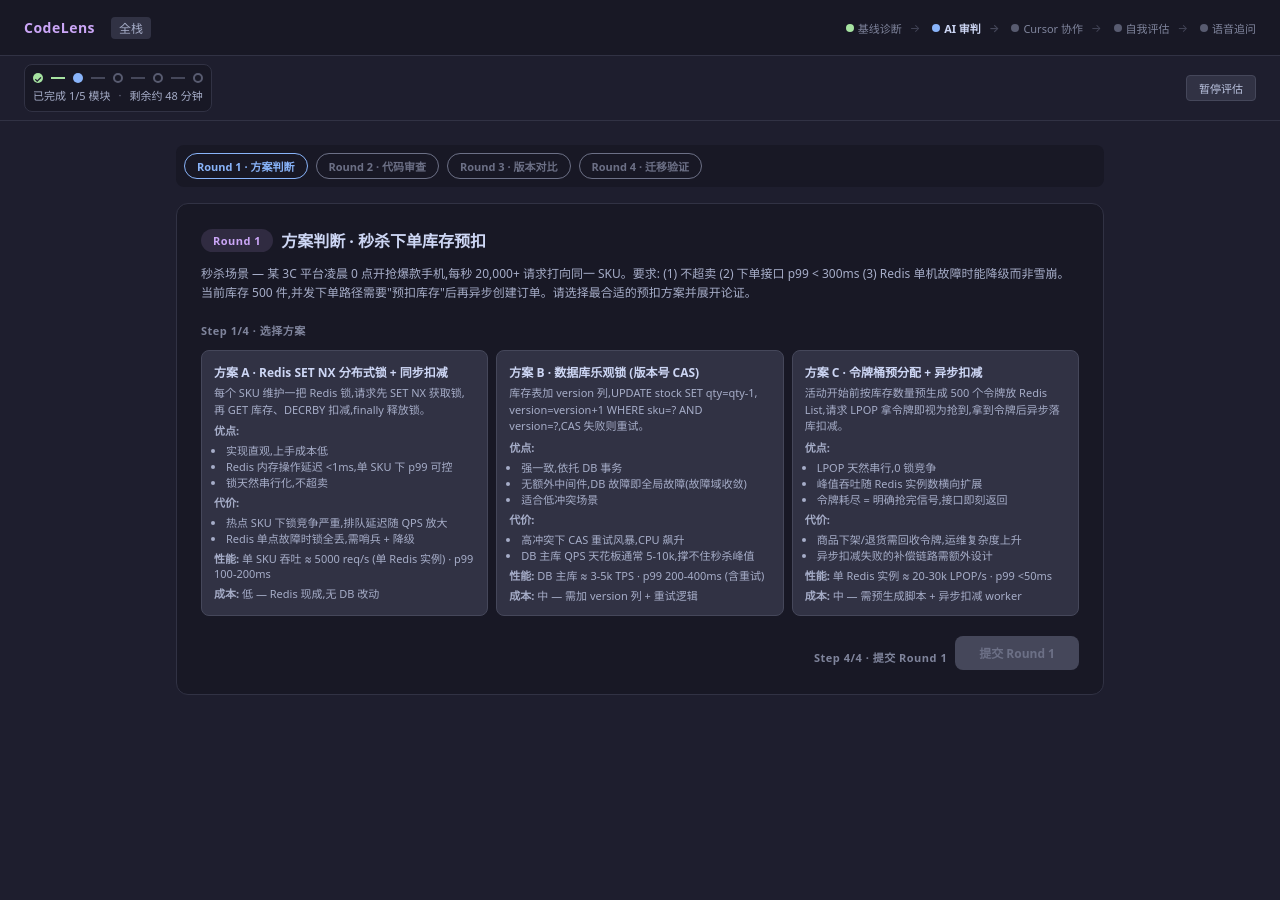
Test: <ModuleAPage /> › canonical data-testids › reveals structured form after scheme + reasoning, then challenge
Click the button with test id "ma-r1-scheme-c" at (935, 483), box [792, 350, 1079, 616]
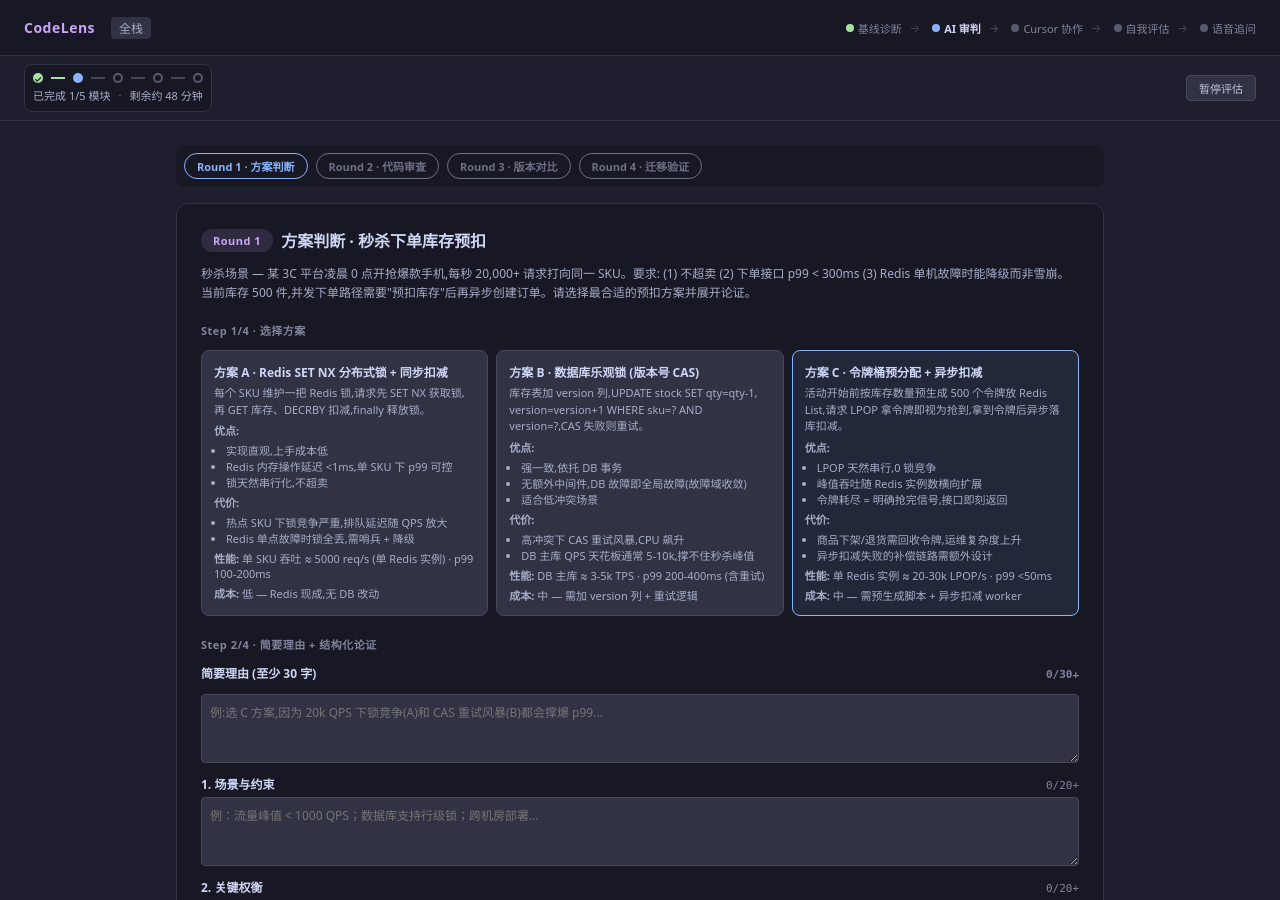
Expected: the text box with test id "ma-r1-reasoning" is shown
Expected: the text box with test id "ma-r1-structured-scenario" is shown, [201, 797, 1079, 866]
Type "选 C 方案 — 20k QPS 下锁竞争(A)和 CAS 重试风暴(B)都顶不住,令牌桶把串行化从 lock 转到 LPOP 上,天然扩展。" into the text box with test id "ma-r1-reasoning" at (640, 728), box [201, 694, 1079, 763]
(page scrolled)
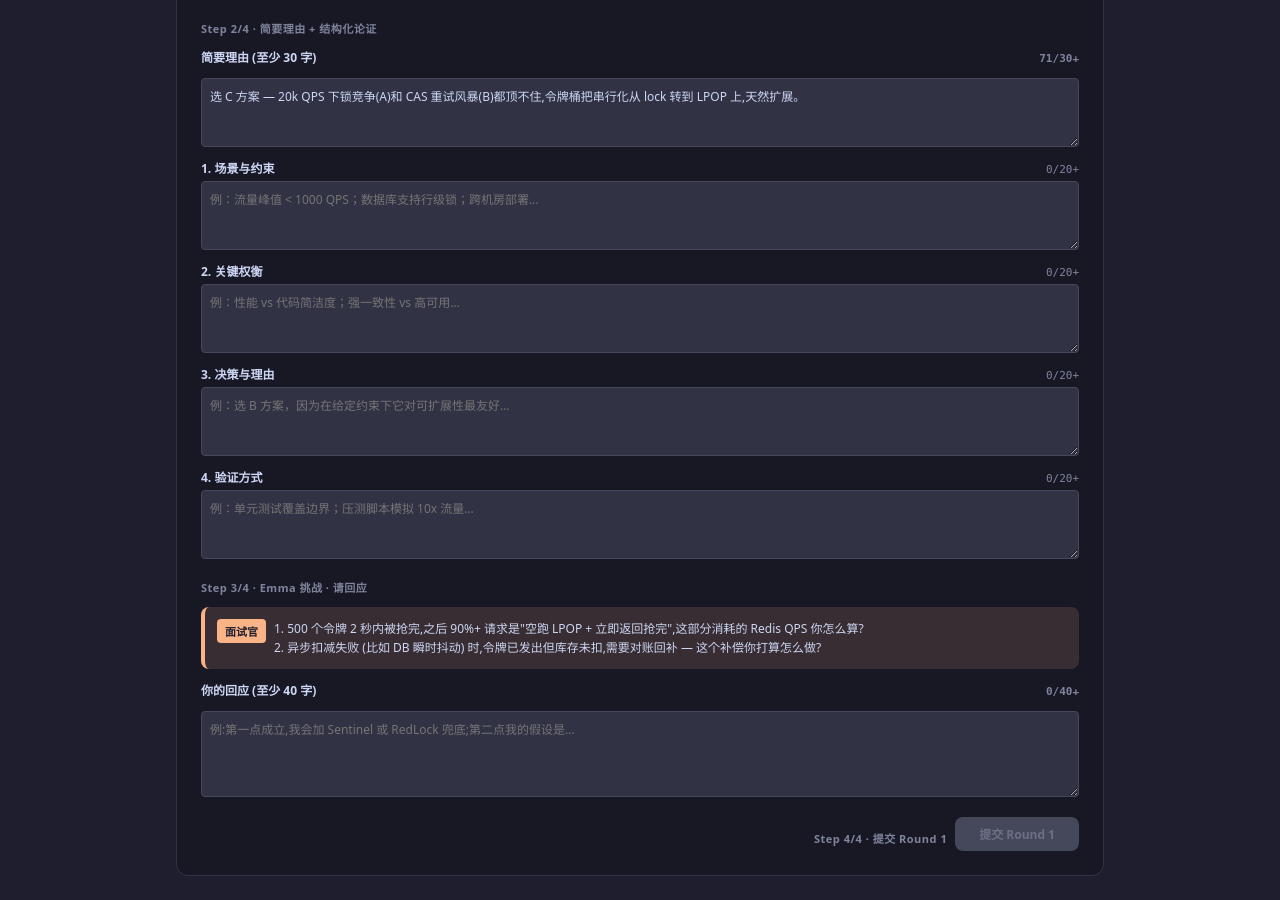
Expected: the element with test id "ma-r1-challenge-text" is shown, [201, 607, 1079, 669]
Expected: the text box with test id "ma-r1-challenge-response" is shown, [201, 711, 1079, 797]
